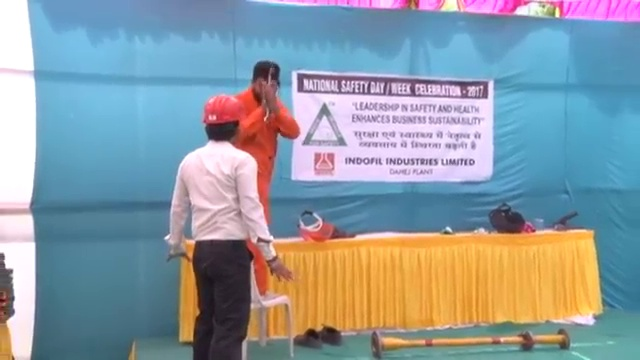helmet: (202, 93, 243, 125)
helmet_off: (250, 59, 280, 100)
helmet_on: (202, 92, 243, 145)
person: (165, 90, 291, 360), (231, 57, 298, 298)
